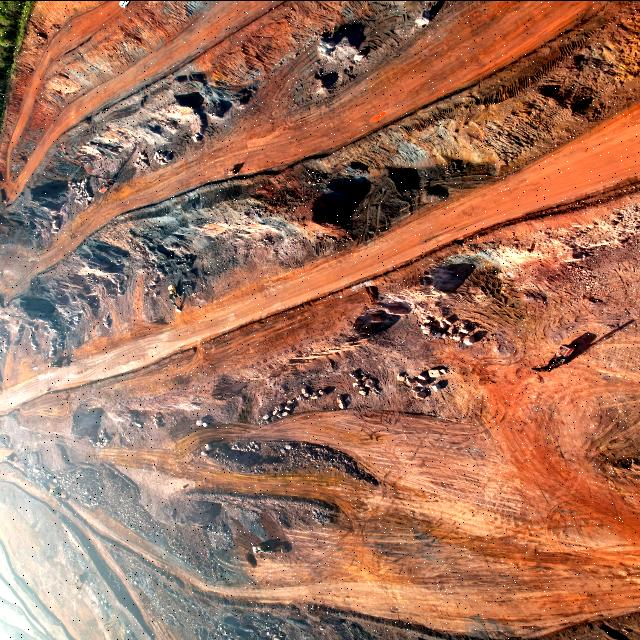Blast rig: (530, 344, 572, 370), (530, 347, 572, 371), (95, 179, 112, 192), (97, 176, 113, 188)
Excavator: (254, 542, 286, 552), (170, 285, 182, 311), (49, 488, 68, 502), (74, 574, 85, 594), (50, 487, 66, 499), (73, 575, 83, 593), (50, 489, 66, 500), (48, 359, 66, 367), (49, 359, 69, 366), (4, 454, 18, 462), (49, 360, 67, 366)
car: (117, 0, 130, 7)
